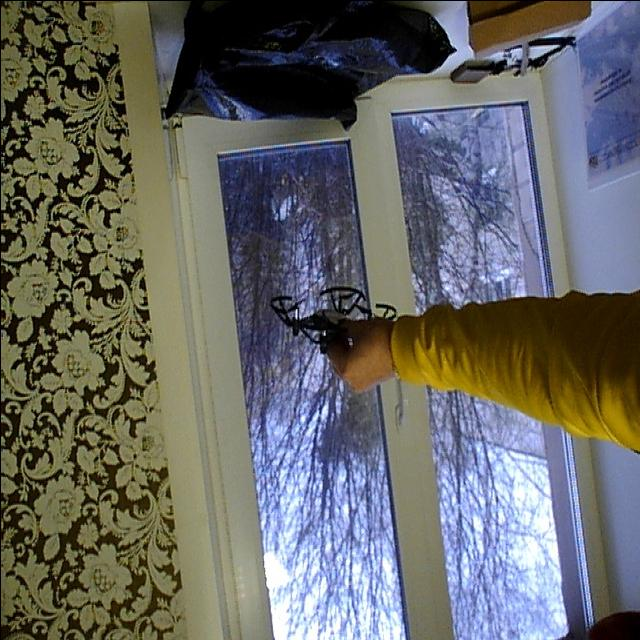drone: (262, 275, 404, 366)
